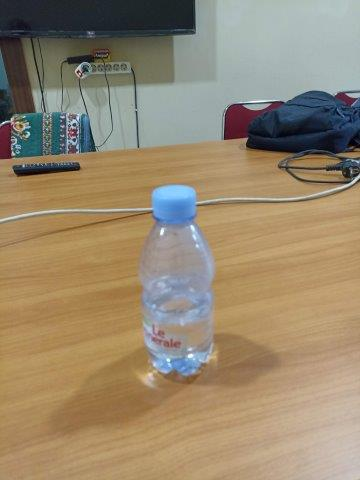botolplastik: (138, 183, 215, 377)
